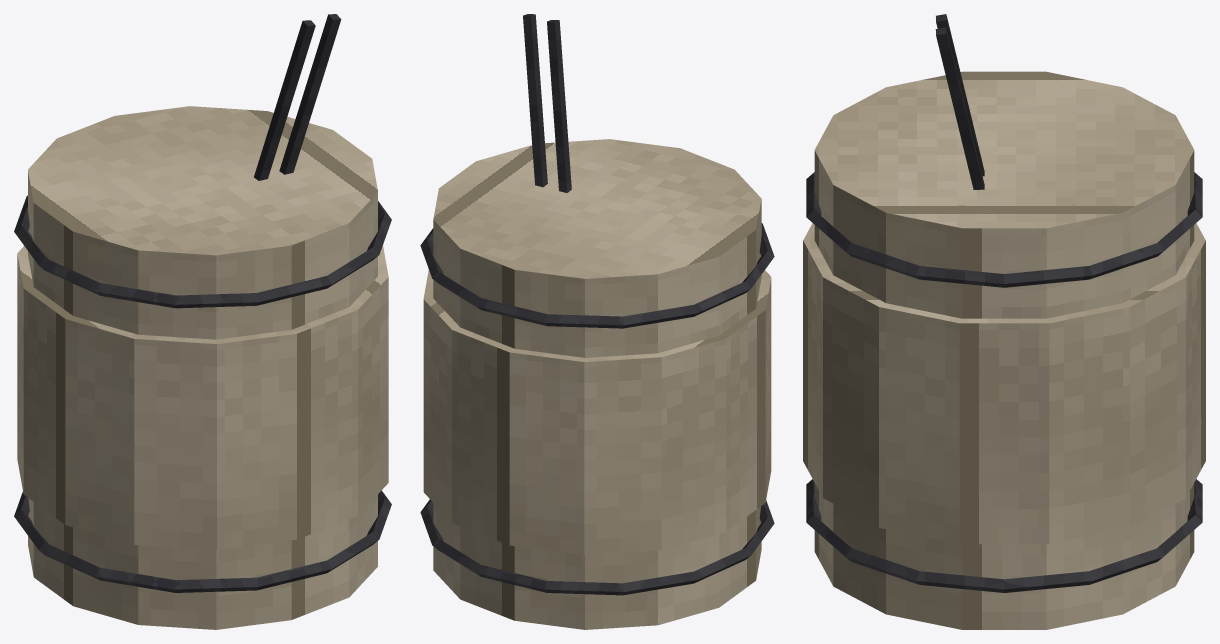
The model's file is quench_barrel.obj.
3 views of the same model, side by side, from view 1: azimuth 30°, elevation 25°; view 2: azimuth 150°, elevation 25°; view 3: azimuth 270°, elevation 25° (orthographic). The views are drawn at different scales.
Visible parts, largest first — view 1: quench_barrel; view 2: quench_barrel; view 3: quench_barrel.
Part boxes in pixels (left/top/right/bottom): quench_barrel: left=14, top=14, right=391, bottom=629; quench_barrel: left=420, top=14, right=774, bottom=629; quench_barrel: left=803, top=14, right=1205, bottom=629.
Bounding box in the file's own units: 0.642 × 1 × 0.636.
